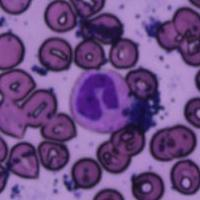N: (69, 68, 132, 134)
